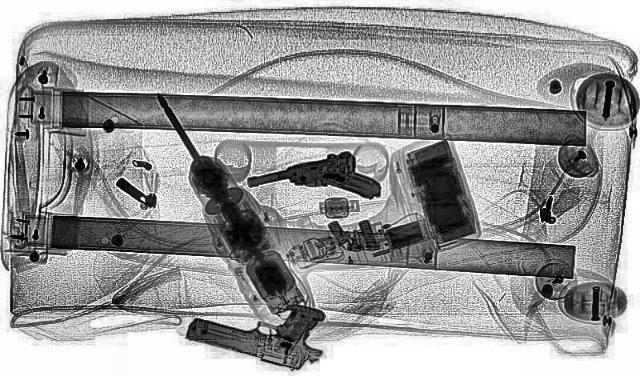Gun: (172, 284, 352, 372), (240, 148, 390, 221)
